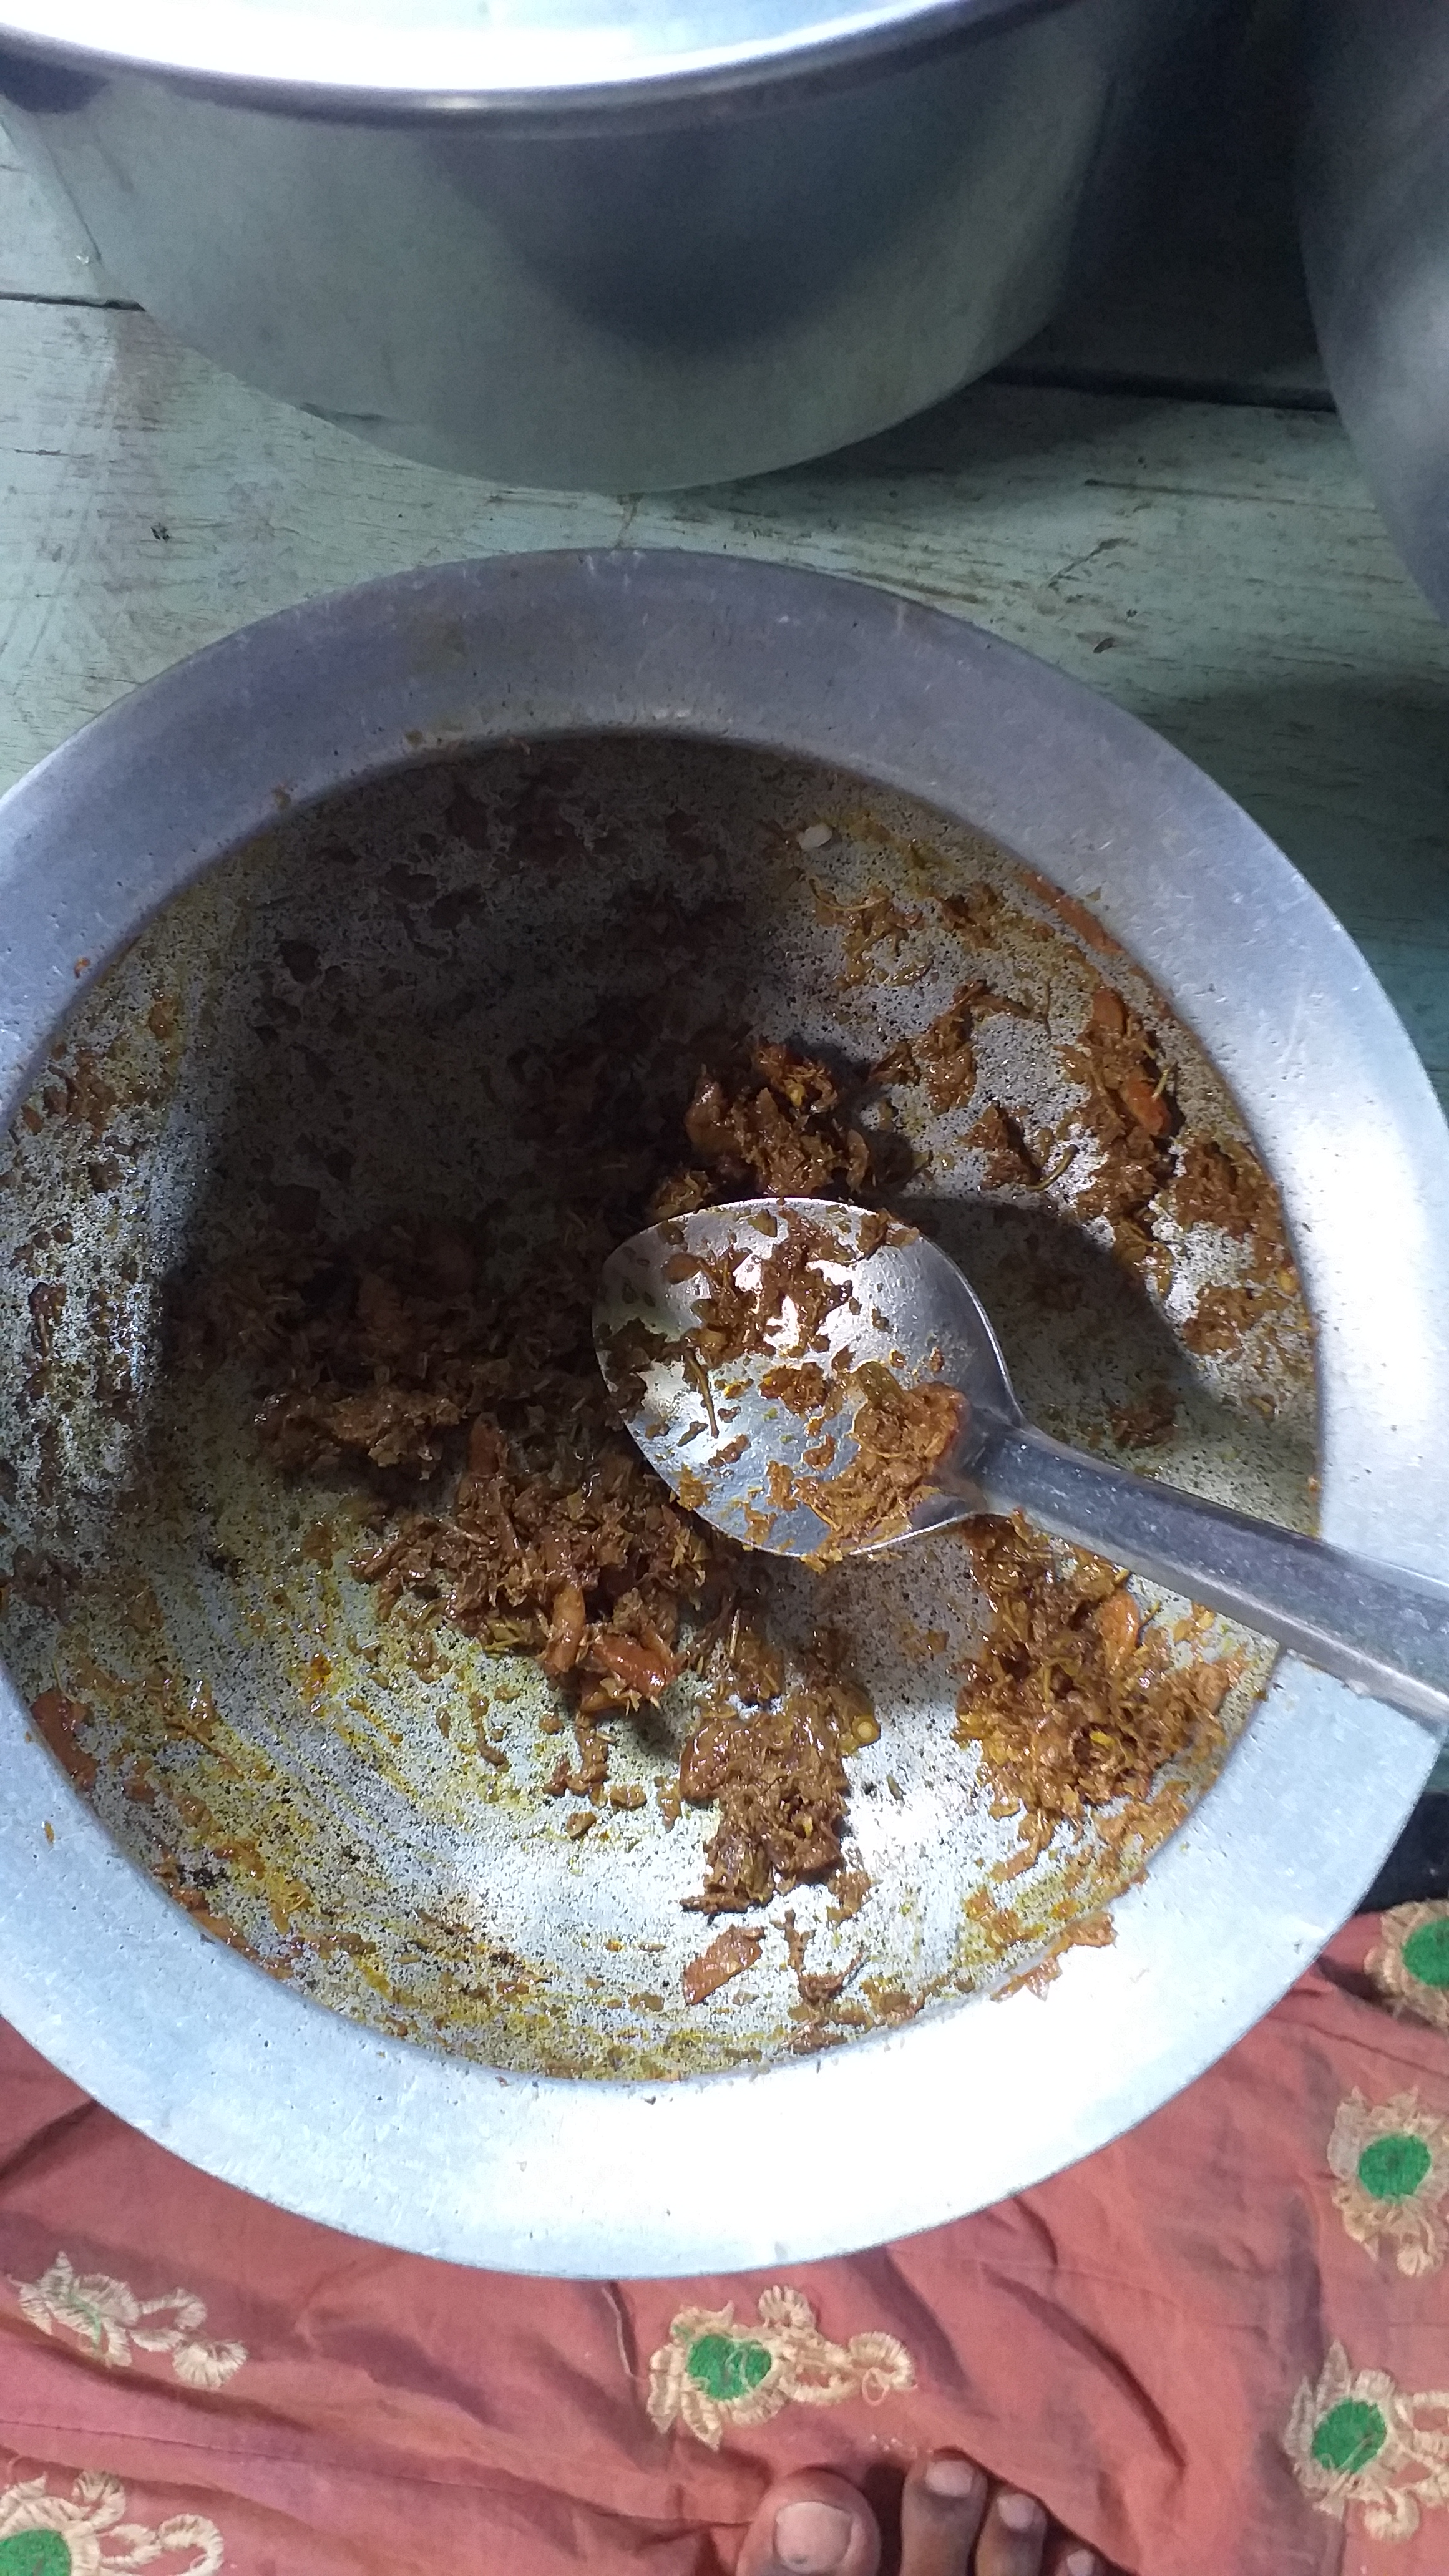food: (0, 713, 1329, 2081)
